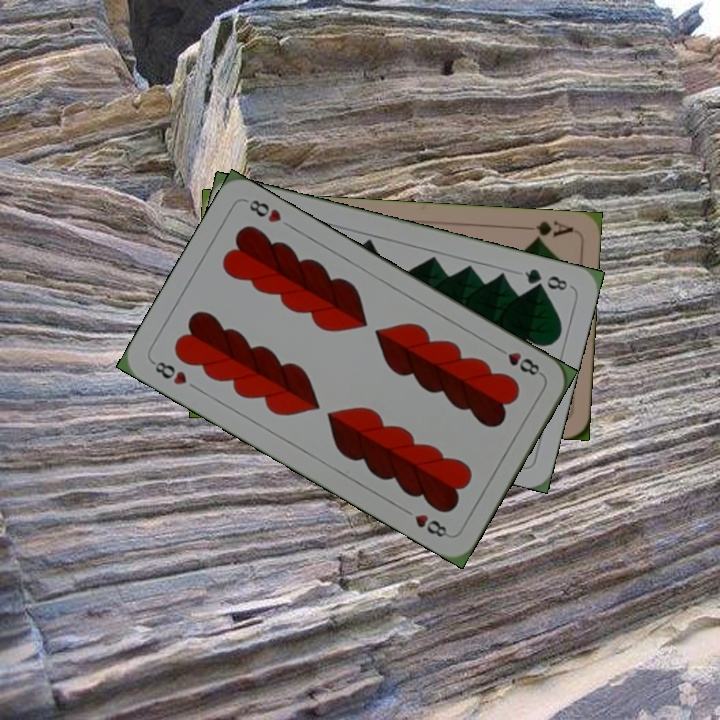G8: (521, 264, 573, 293)
GA: (530, 217, 575, 243)
H8: (492, 342, 545, 379), (147, 357, 190, 388)
